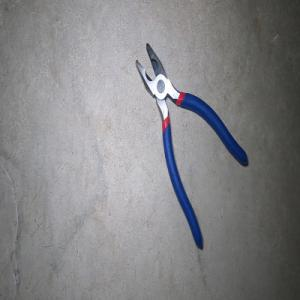Pliers: (135, 42, 248, 249)
